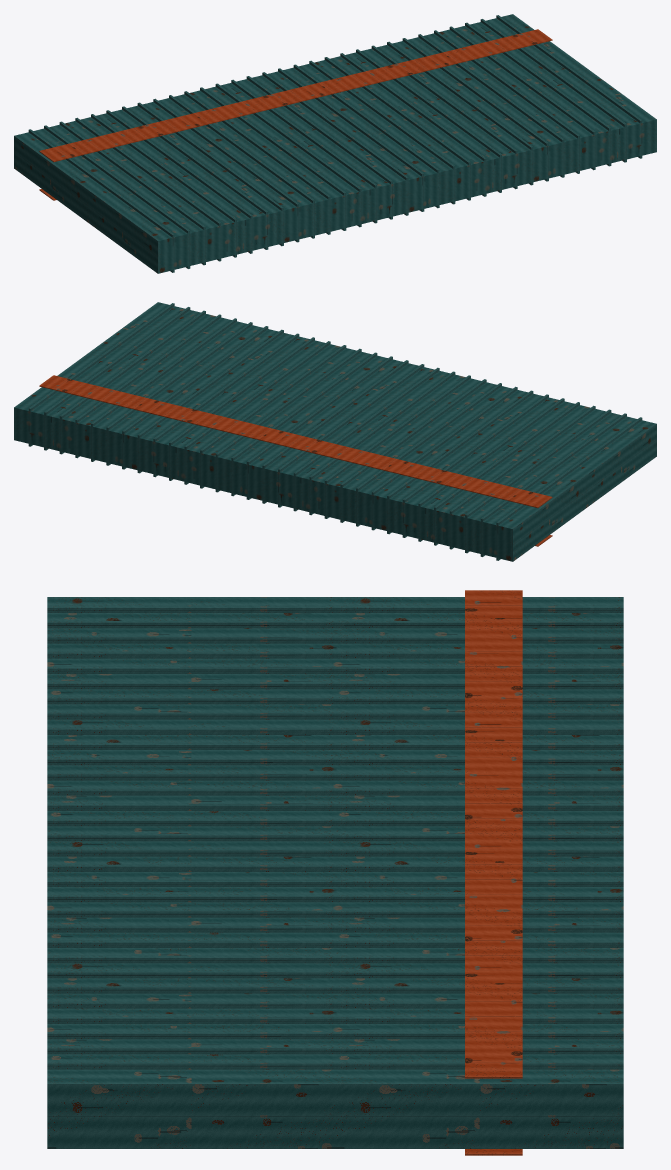
Rendered from corrugated_wall-pristine.obj.
The picture shows the model from 3 angles, top to bottom: view 1: azimuth 30°, elevation 25°; view 2: azimuth 150°, elevation 25°; view 3: azimuth 270°, elevation 25°; orthographic projection. The views are drawn at different scales.
Visible parts, largest first — view 1: corrugated_wall.Pristine; view 2: corrugated_wall.Pristine; view 3: corrugated_wall.Pristine.
Boxes of the visible parts, left/top/right/bottom form: corrugated_wall.Pristine: left=14, top=14, right=656, bottom=273; corrugated_wall.Pristine: left=14, top=302, right=656, bottom=561; corrugated_wall.Pristine: left=47, top=590, right=623, bottom=1155.
Bounding box in the file's own units: 16 × 1.21 × 8.
2 materials, 2 textured.
